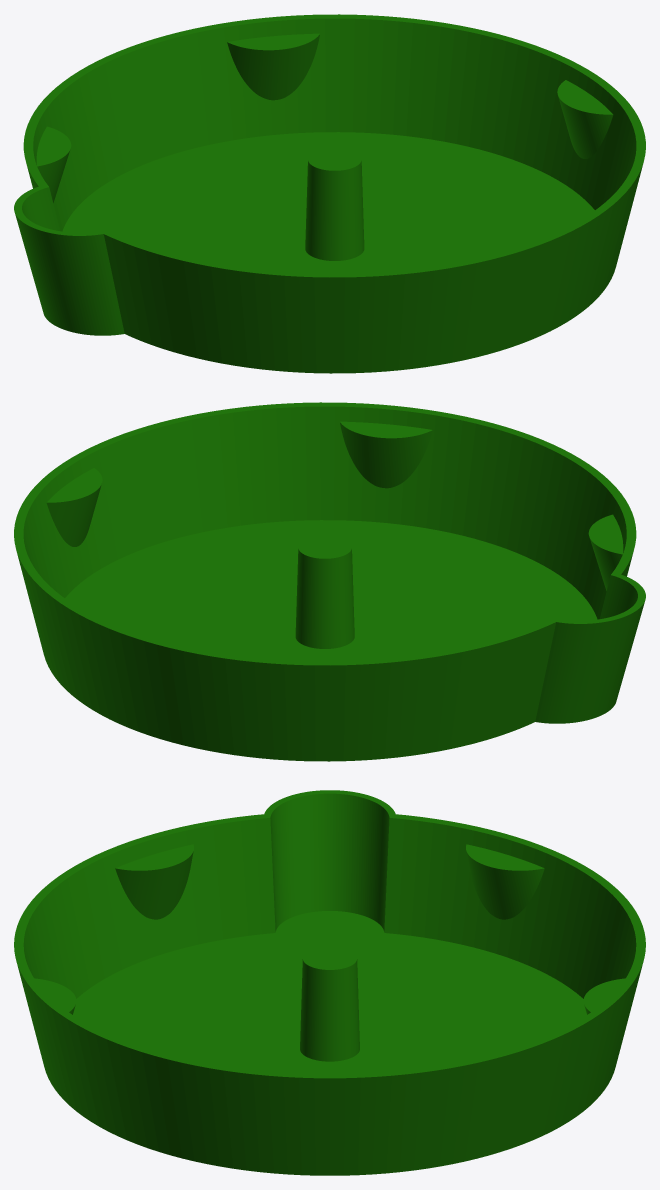
Rendered from plate_large-bonsai-planter.stl.glb.
The picture shows the model from 3 angles, top to bottom: view 1: azimuth 30°, elevation 25°; view 2: azimuth 150°, elevation 25°; view 3: azimuth 270°, elevation 25°; orthographic projection.
Visible parts, largest first — view 1: plate_large-bonsai-planter; view 2: plate_large-bonsai-planter; view 3: plate_large-bonsai-planter.
Part boxes in pixels (x1,y1,x2,y2): plate_large-bonsai-planter: (14,14,645,373); plate_large-bonsai-planter: (14,402,645,761); plate_large-bonsai-planter: (14,790,645,1175).
Bounding box in the file's own units: 226 × 40 × 209.
